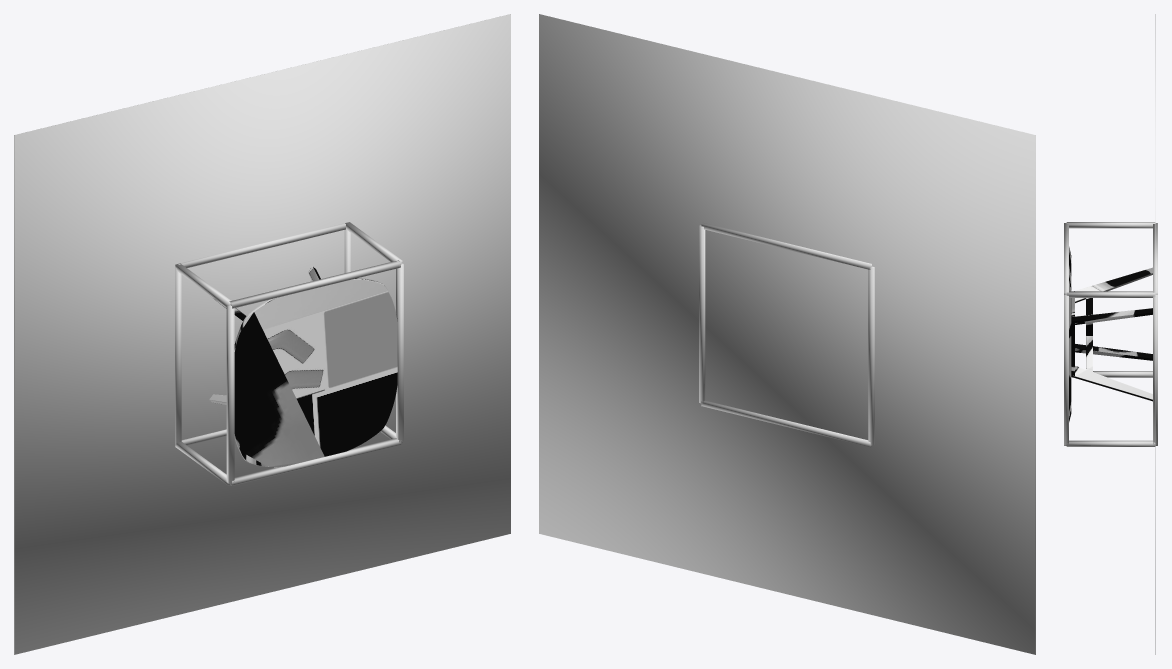
3 views of the same model, side by side, from view 1: azimuth 30°, elevation 25°; view 2: azimuth 150°, elevation 25°; view 3: azimuth 270°, elevation 25° (orthographic). The views are drawn at different scales.
Bounding box in the file's own units: 2 × 2 × 0.3885.
